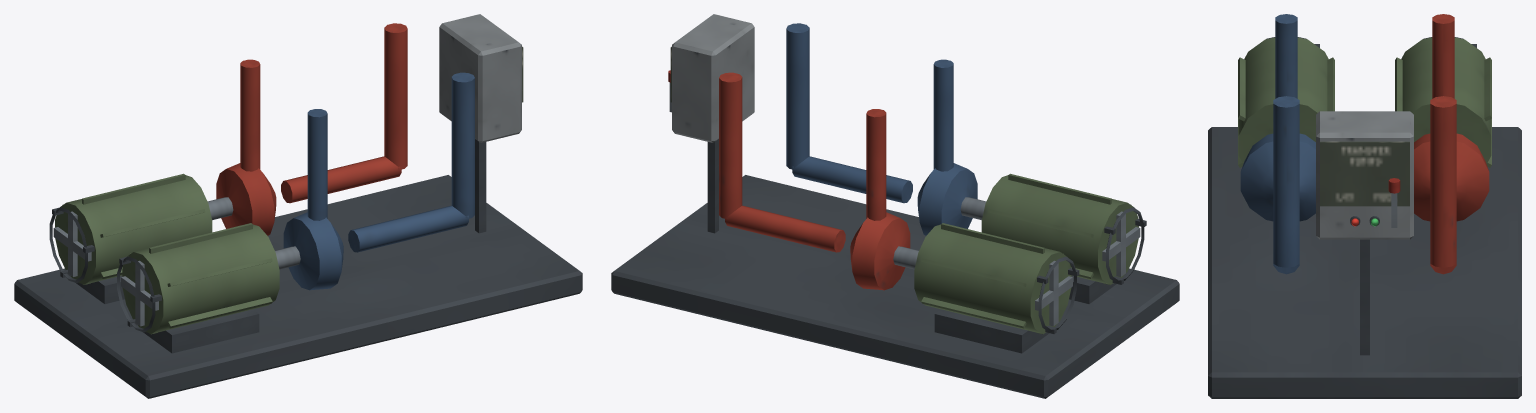
File: pump_skid_lc.obj
3 views of the same model, side by side, from view 1: azimuth 30°, elevation 25°; view 2: azimuth 150°, elevation 25°; view 3: azimuth 270°, elevation 25° (orthographic). The views are drawn at different scales.
Visible parts, largest first — view 1: pump_skid_lc_set, pump_skid_lc, pump_skid_lc_panel, pump_skid_lc_fan_0, pump_skid_lc_fan_1; view 2: pump_skid_lc_set, pump_skid_lc, pump_skid_lc_panel, pump_skid_lc_fan_1, pump_skid_lc_fan_0; view 3: pump_skid_lc, pump_skid_lc_set, pump_skid_lc_panel, pump_skid_lc_lever.
Boxes of the visible parts, x1,y1,x2,y2 form: pump_skid_lc_set: [49, 23, 474, 353]; pump_skid_lc: [14, 175, 582, 398]; pump_skid_lc_panel: [439, 14, 523, 233]; pump_skid_lc_fan_0: [121, 260, 158, 326]; pump_skid_lc_fan_1: [53, 211, 91, 276]; pump_skid_lc_set: [719, 23, 1146, 353]; pump_skid_lc: [611, 175, 1179, 398]; pump_skid_lc_panel: [670, 14, 754, 233]; pump_skid_lc_fan_1: [1035, 260, 1072, 326]; pump_skid_lc_fan_0: [1102, 211, 1140, 276]; pump_skid_lc: [1208, 127, 1521, 398]; pump_skid_lc_set: [1238, 14, 1491, 274]; pump_skid_lc_panel: [1316, 111, 1413, 355]; pump_skid_lc_lever: [1388, 178, 1400, 227].
Size of the model in its own units: 3 by 1.45 by 1.6.
Materials: 1 (1 with a texture image).
